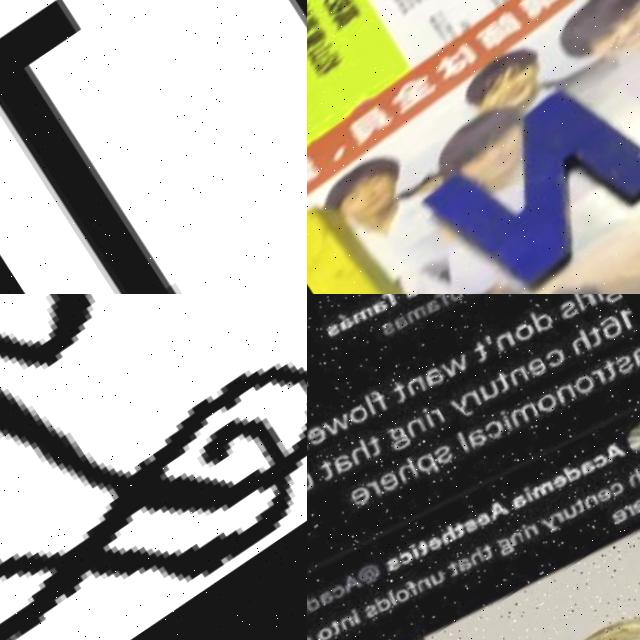1: (616, 308, 640, 335)
6: (593, 314, 627, 348)
L: (307, 179, 432, 294)
N: (414, 70, 640, 294)
U: (0, 0, 307, 294)
Y: (0, 294, 307, 640)
